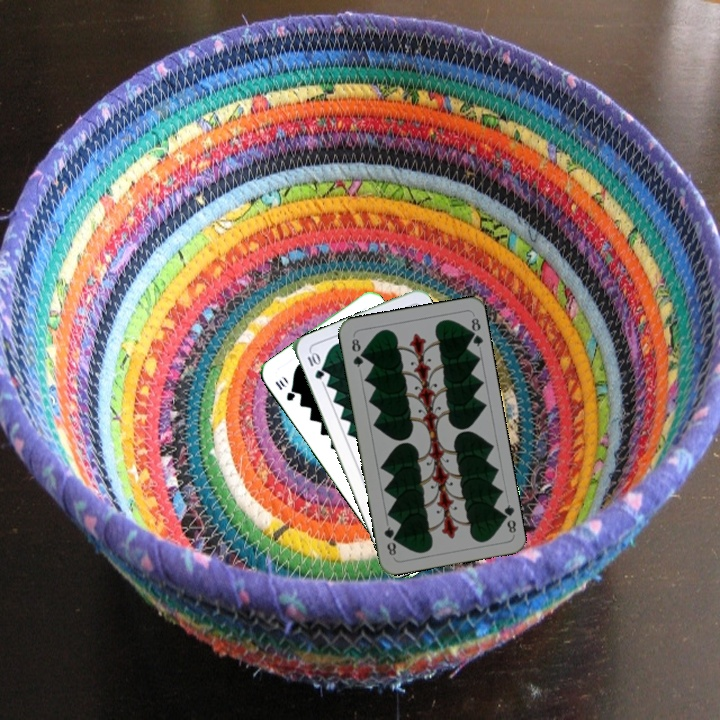G10: (303, 348, 327, 382), (271, 375, 298, 404)
G8: (496, 500, 519, 536), (347, 334, 366, 370)
